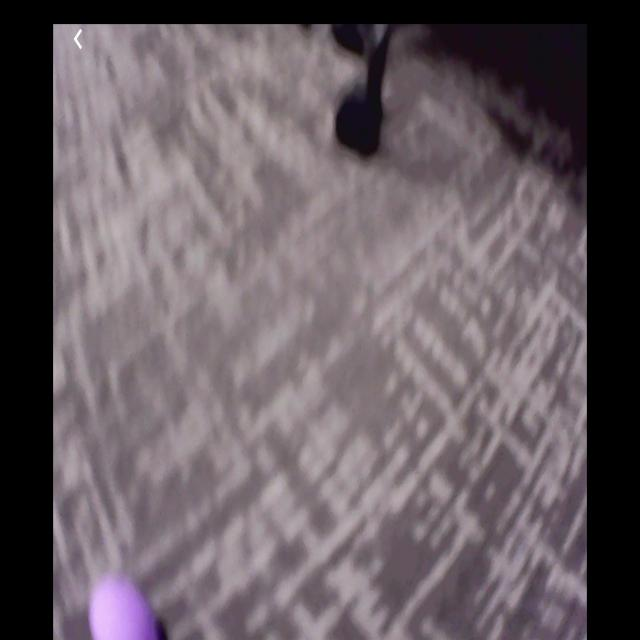ball: (87, 579, 158, 640)
